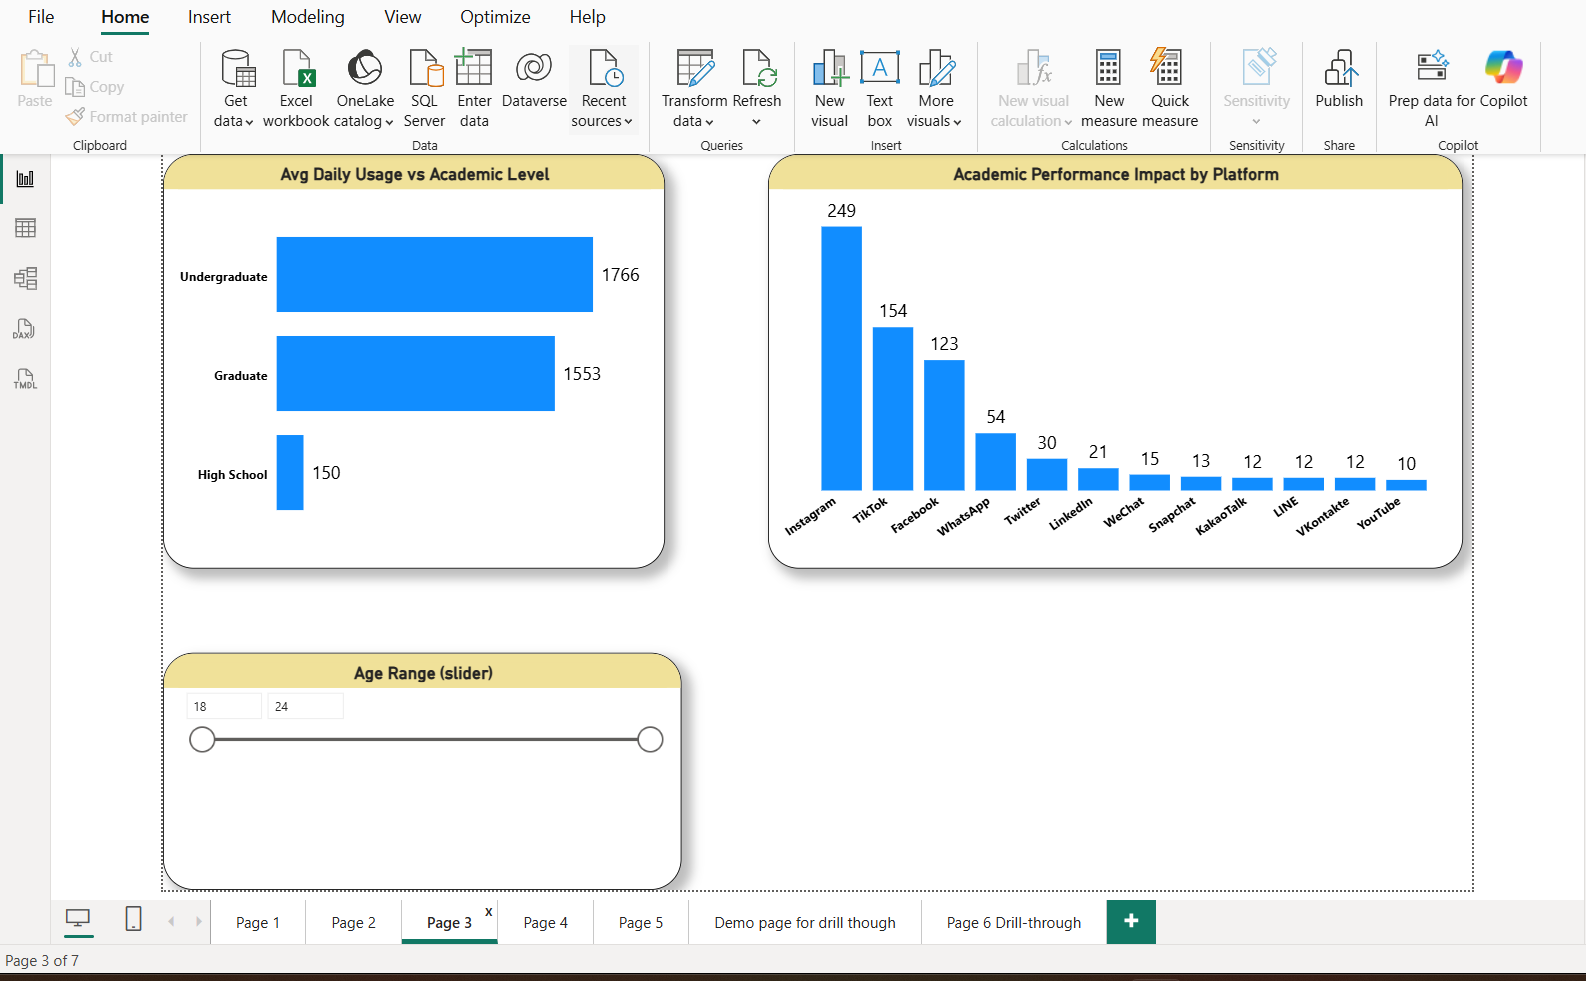

The page's visual inventory and layout, read from the dashboard file:
{"tool":"powerbi","page":{"name":"Page 3","canvas":[1280,720],"ordinal":2},"visuals":[{"type":"barChart","title":"Avg Daily Usage vs Academic Level","fields":{"Category":["Student Details.Academic_Level"],"Y":["Sum(Platform Details.Avg_Daily_Usage_Hours)"]},"box":[0,0,491.6,406],"z":0},{"type":"columnChart","title":"Academic Performance Impact by Platform","fields":{"Category":["Platform Details.Most_Used_Platform"],"Y":["CountNonNull(Platform Details.Affects_Academic_Performance)"]},"box":[591.9,0,679.9,406],"z":1000},{"type":"slicer","title":"Age Range (slider)","fields":{"Values":["Student Details.Age"]},"box":[0,487.9,507.5,232.3],"z":2000}]}

Visuals, with their boxes on the page's 1280x720 design canvas (x1, y1, x2, y2). These are canvas units, not pixel positions in the 1586x982 screenshot, which may show the page scaled, cropped or inside an application window:
"Avg Daily Usage vs Academic Level" barChart: <bbox>0, 0, 492, 406</bbox>
"Academic Performance Impact by Platform" columnChart: <bbox>592, 0, 1272, 406</bbox>
"Age Range (slider)" slicer: <bbox>0, 488, 508, 720</bbox>
